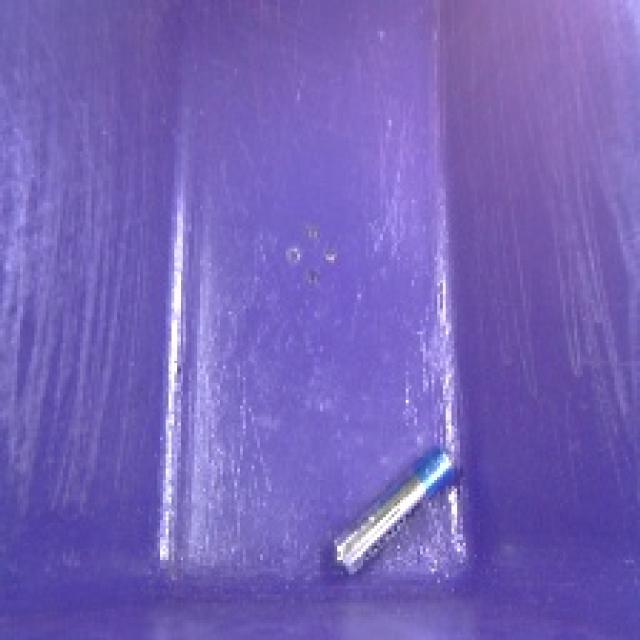battery: (314, 433, 466, 589)
